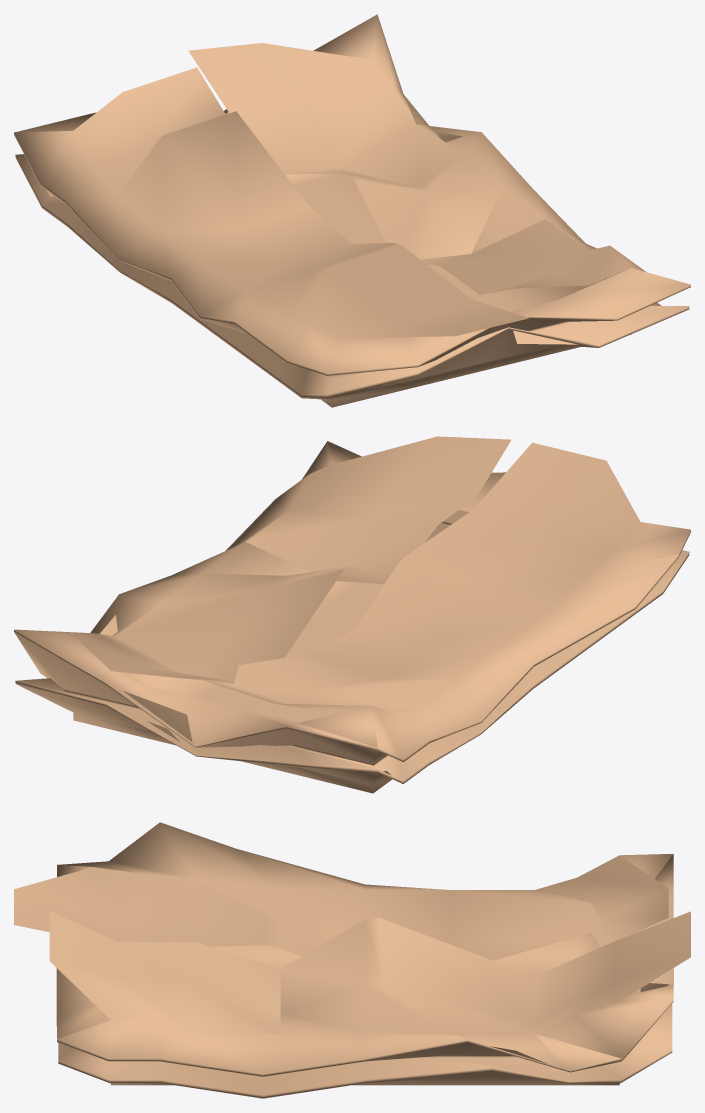
Rendered from box_dist.fbx.
3 renders of one model, top to bottom at view 1: azimuth 30°, elevation 25°; view 2: azimuth 150°, elevation 25°; view 3: azimuth 270°, elevation 25°, orthographic.
Visible parts, largest first — view 1: box_dist; view 2: box_dist; view 3: box_dist.
Boxes of the visible parts, bbox=[...] form: box_dist: bbox=[14, 14, 690, 407]; box_dist: bbox=[14, 436, 690, 793]; box_dist: bbox=[14, 822, 690, 1098].
Size of the model in its own units: 53.92 by 13.39 by 79.55.
